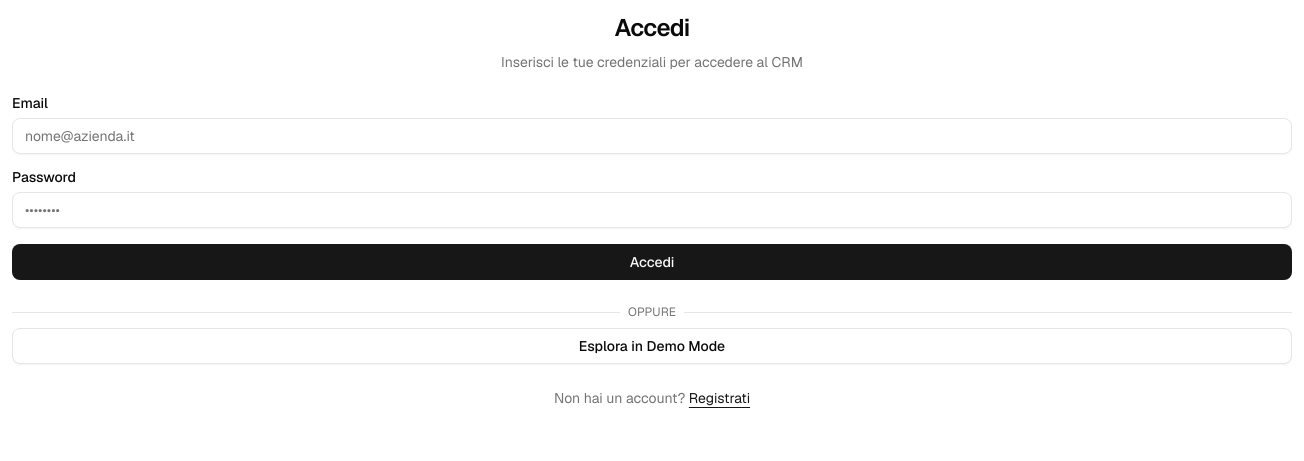
Test case: SignInForm › shows network error when signIn throws during demo mode
Click the button "Esplora in Demo Mode".
click(652, 346)  # box top-left (12, 328), bottom-right (1292, 364)
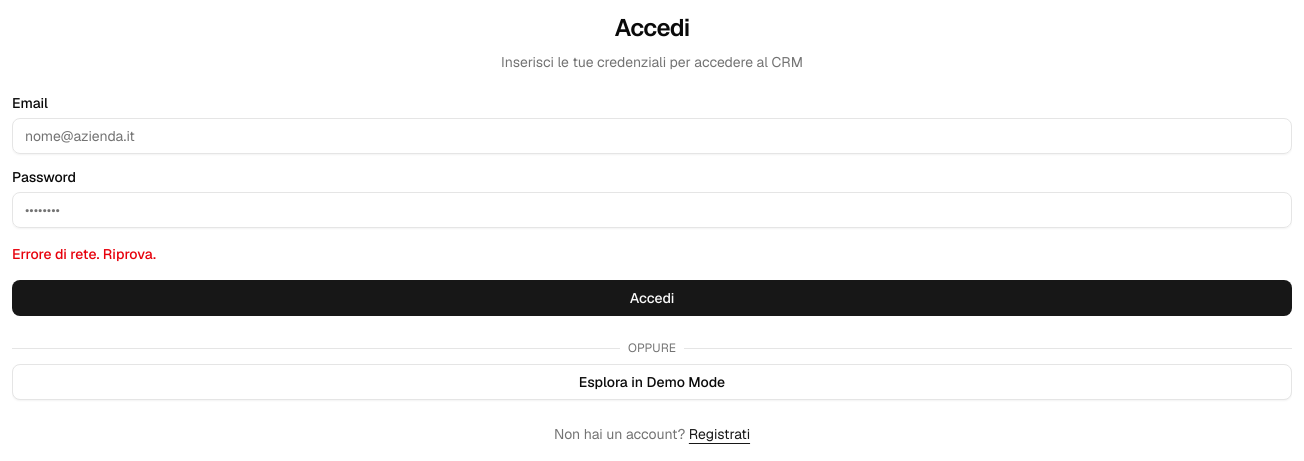
Expected: the text "Errore di rete. Riprova." is shown, top-left (12, 245), bottom-right (156, 263)
